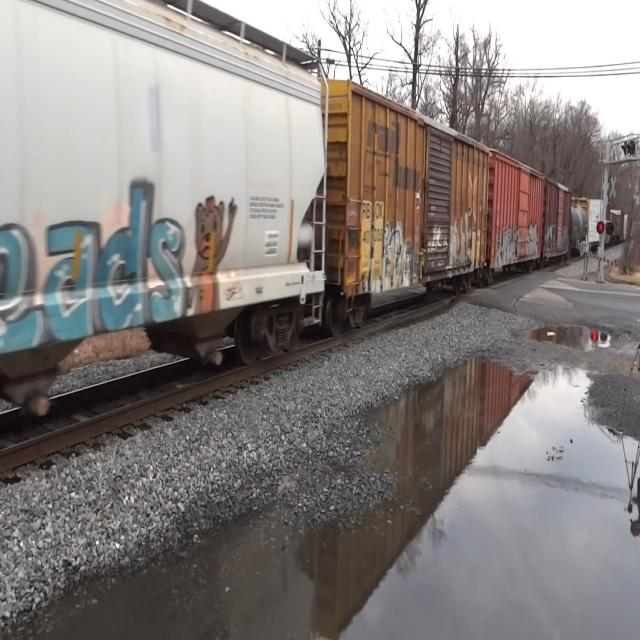boxcar: (327, 67, 494, 330), (488, 142, 546, 287)
hopper: (0, 0, 329, 415)
